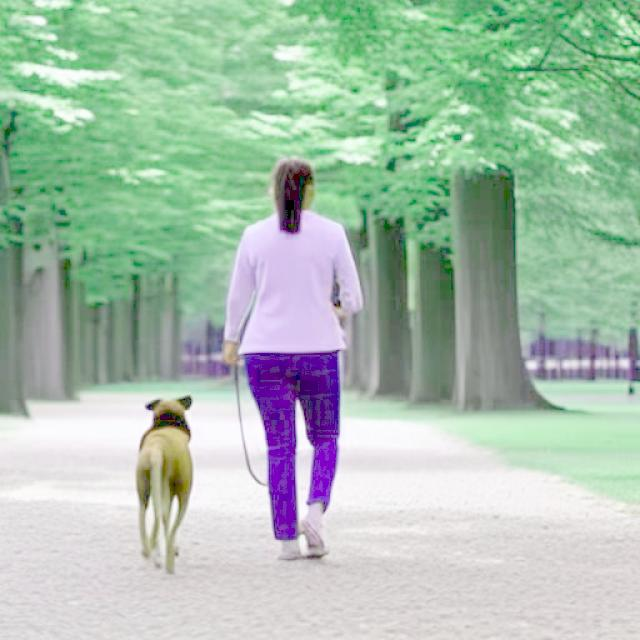Unleashed_Dog: (135, 352, 323, 576)
